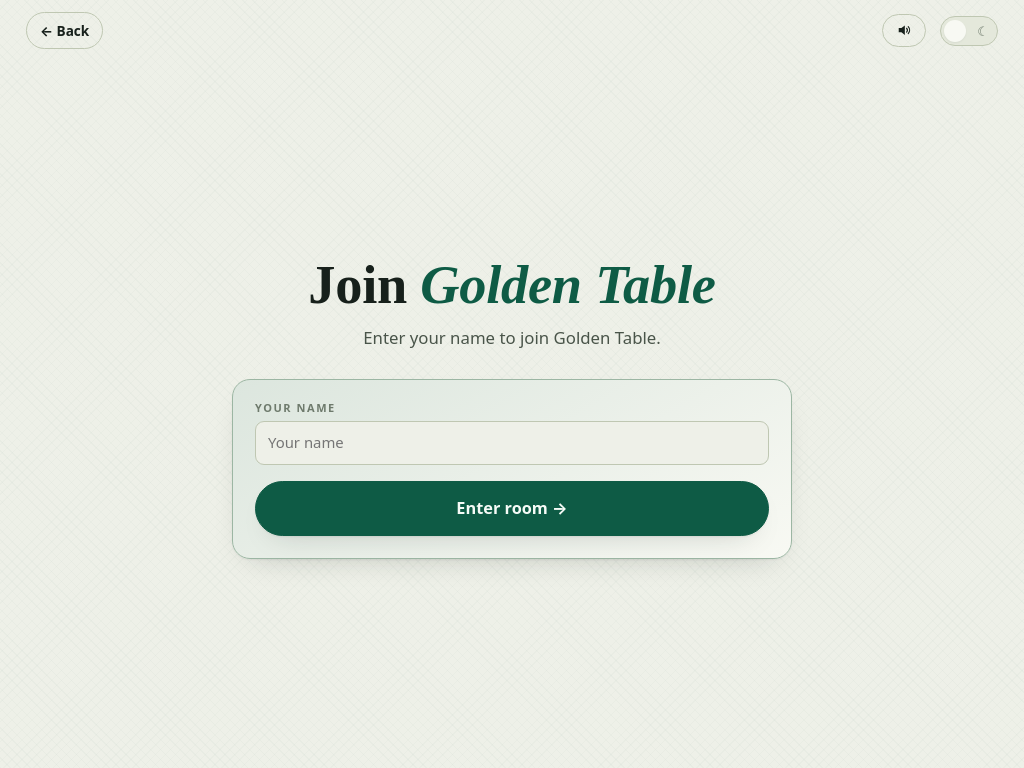
it: the entry screen › an invited visitor enters the room after naming themselves
Step 1. Type "Marco" into the field labelled "Your name" → (512, 443), box x1=255 y1=422 x2=769 y2=464
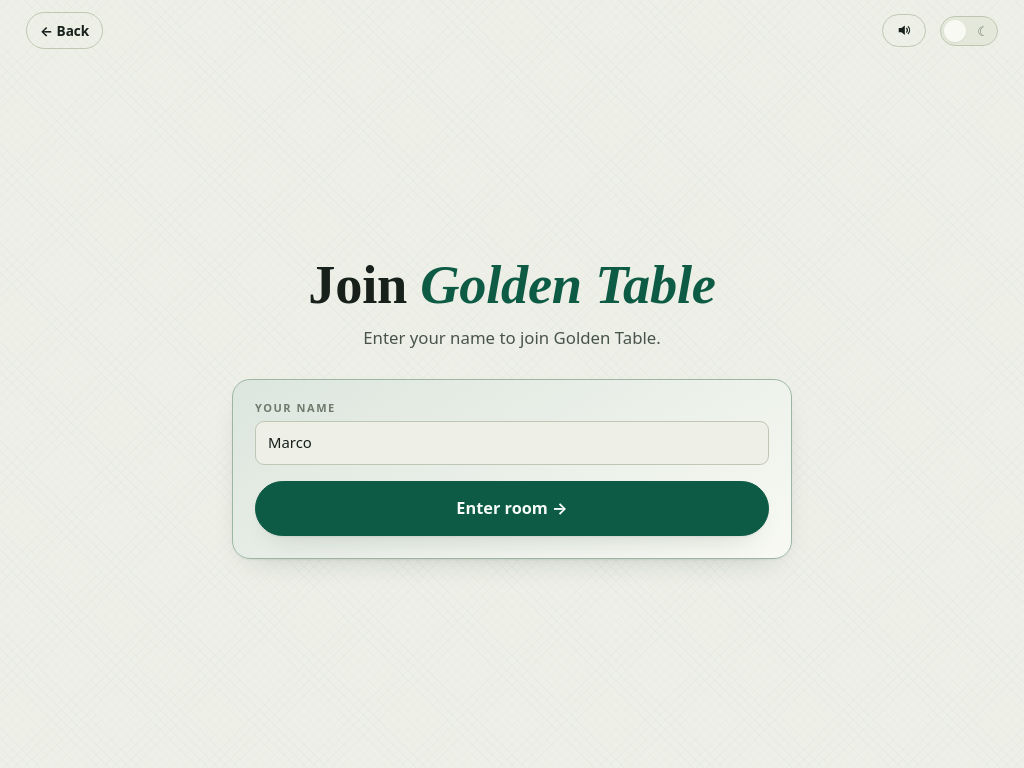
Step 2. Click the button "Enter room →" → (512, 508), box x1=255 y1=480 x2=769 y2=536
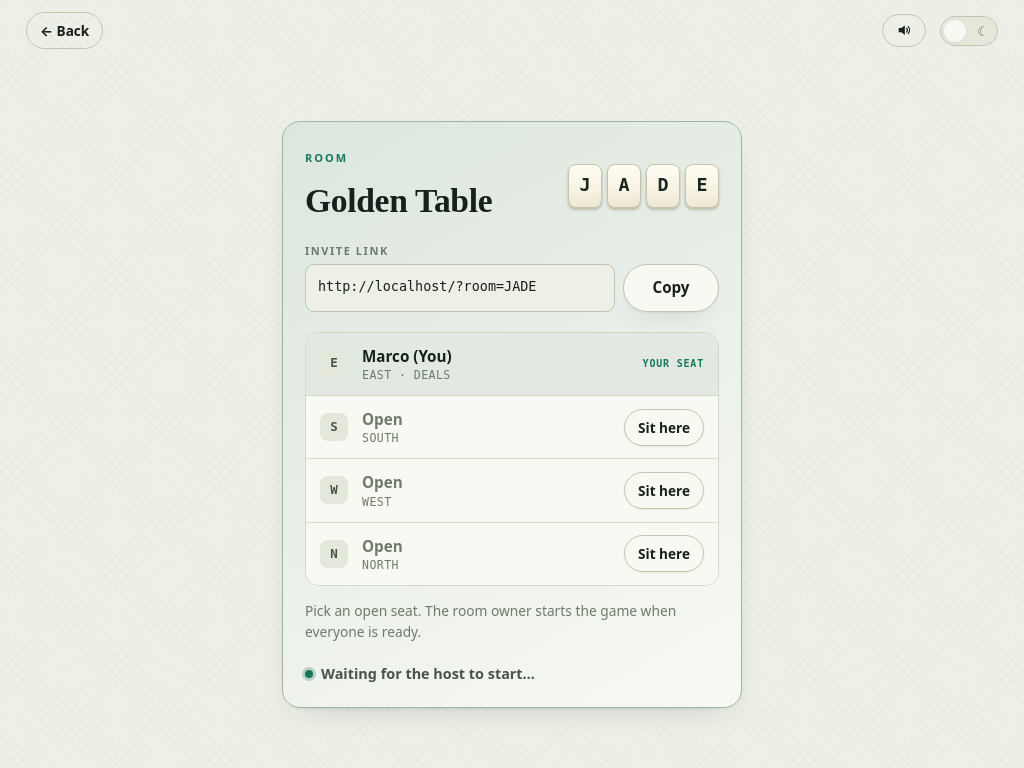
Expected: the text "Room" is shown, x1=305 y1=150 x2=348 y2=165
